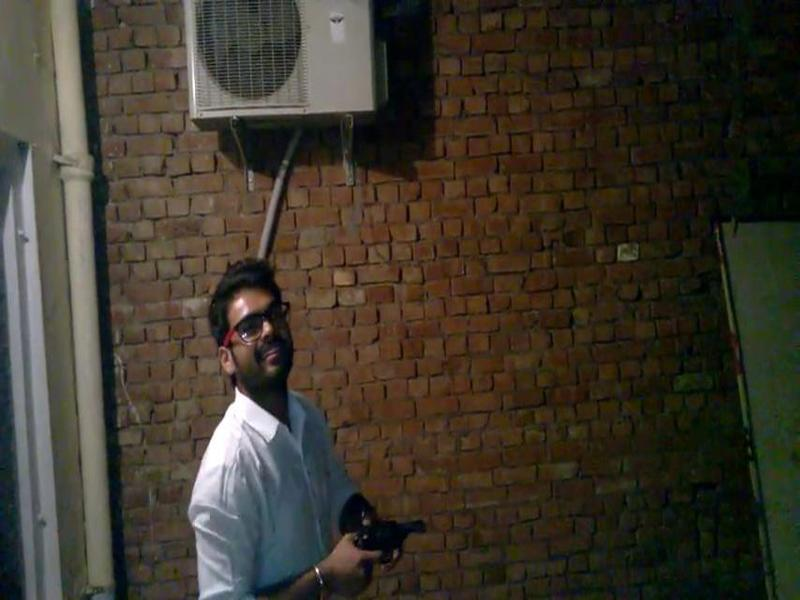Revolver: (348, 514, 439, 577)
